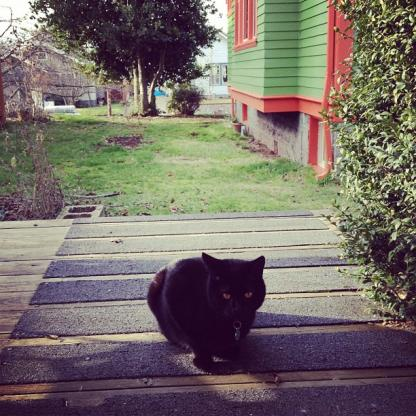Target: (138, 249, 268, 376)
